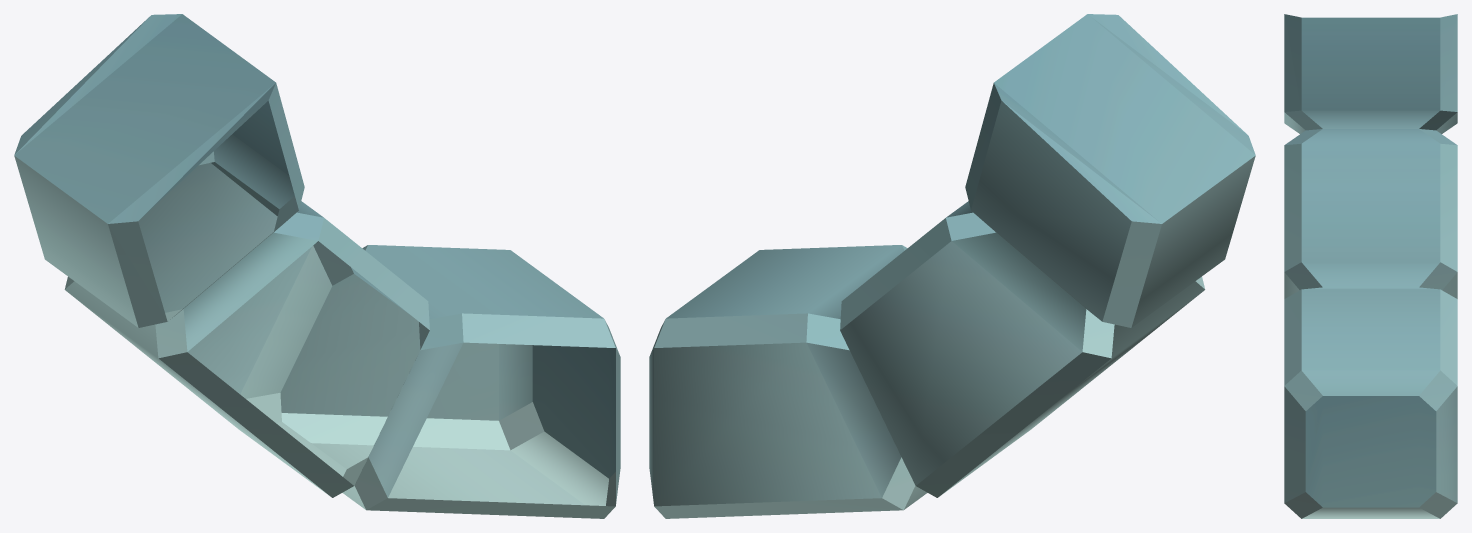
Rendered from Arch Gate Debris 01.FBX.
The picture shows the model from 3 angles, left to right: view 1: azimuth 30°, elevation 25°; view 2: azimuth 150°, elevation 25°; view 3: azimuth 270°, elevation 25°; orthographic projection. The views are drawn at different scales.
Visible parts, largest first — view 1: Arch Gate Debris 01; view 2: Arch Gate Debris 01; view 3: Arch Gate Debris 01.
Boxes of the visible parts, box(x1,y1,x2,y2) form: Arch Gate Debris 01: box(14, 14, 620, 518); Arch Gate Debris 01: box(649, 14, 1255, 518); Arch Gate Debris 01: box(1284, 14, 1457, 518).
Size of the model in its own units: 269 by 106 by 258.
Materials: 1 (1 with a texture image).
